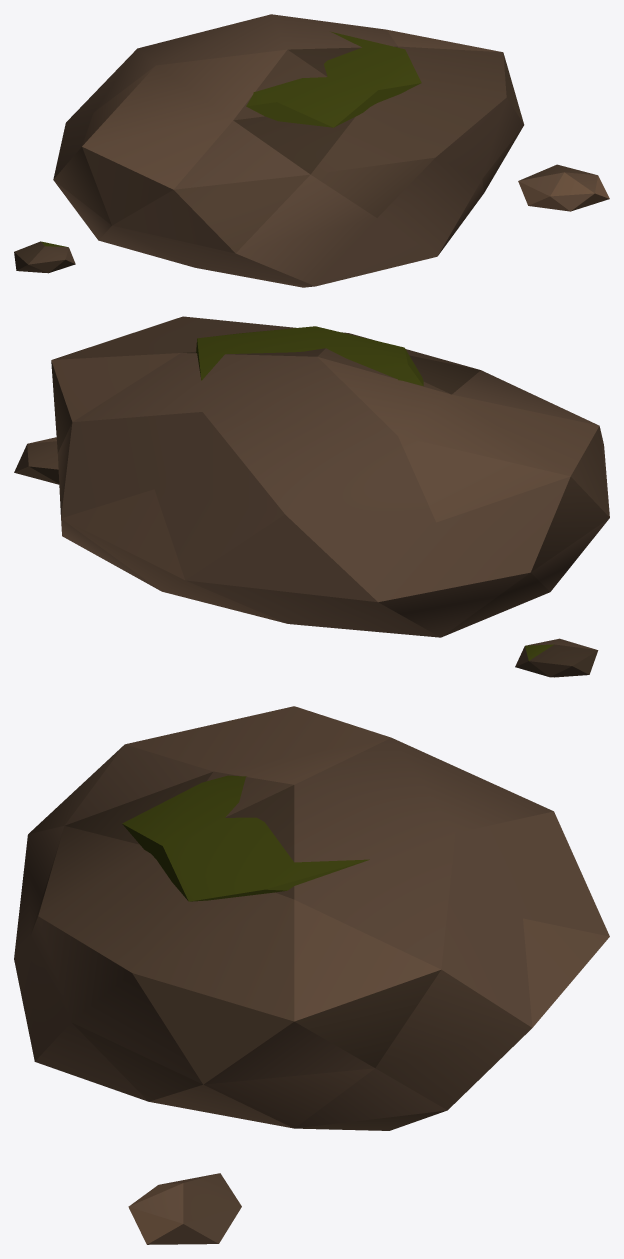
The model's file is bg_desert_rock_2_lod2.glb.
3 renders of one model, top to bottom at view 1: azimuth 30°, elevation 25°; view 2: azimuth 150°, elevation 25°; view 3: azimuth 270°, elevation 25°, orthographic. The views are drawn at different scales.
Parts seen in each view (by area): view 1: body; view 2: body; view 3: body.
Boxes of the visible parts, bbox=[...] form: body: bbox=[14, 14, 609, 287]; body: bbox=[14, 316, 609, 677]; body: bbox=[14, 706, 609, 1244].
Size of the model in its own units: 7.91 by 3 by 5.34.
